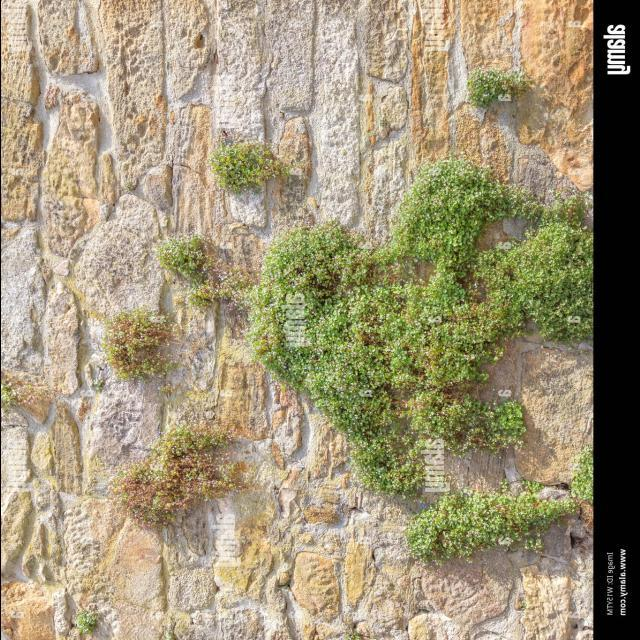Crack: (2, 0, 596, 639)
